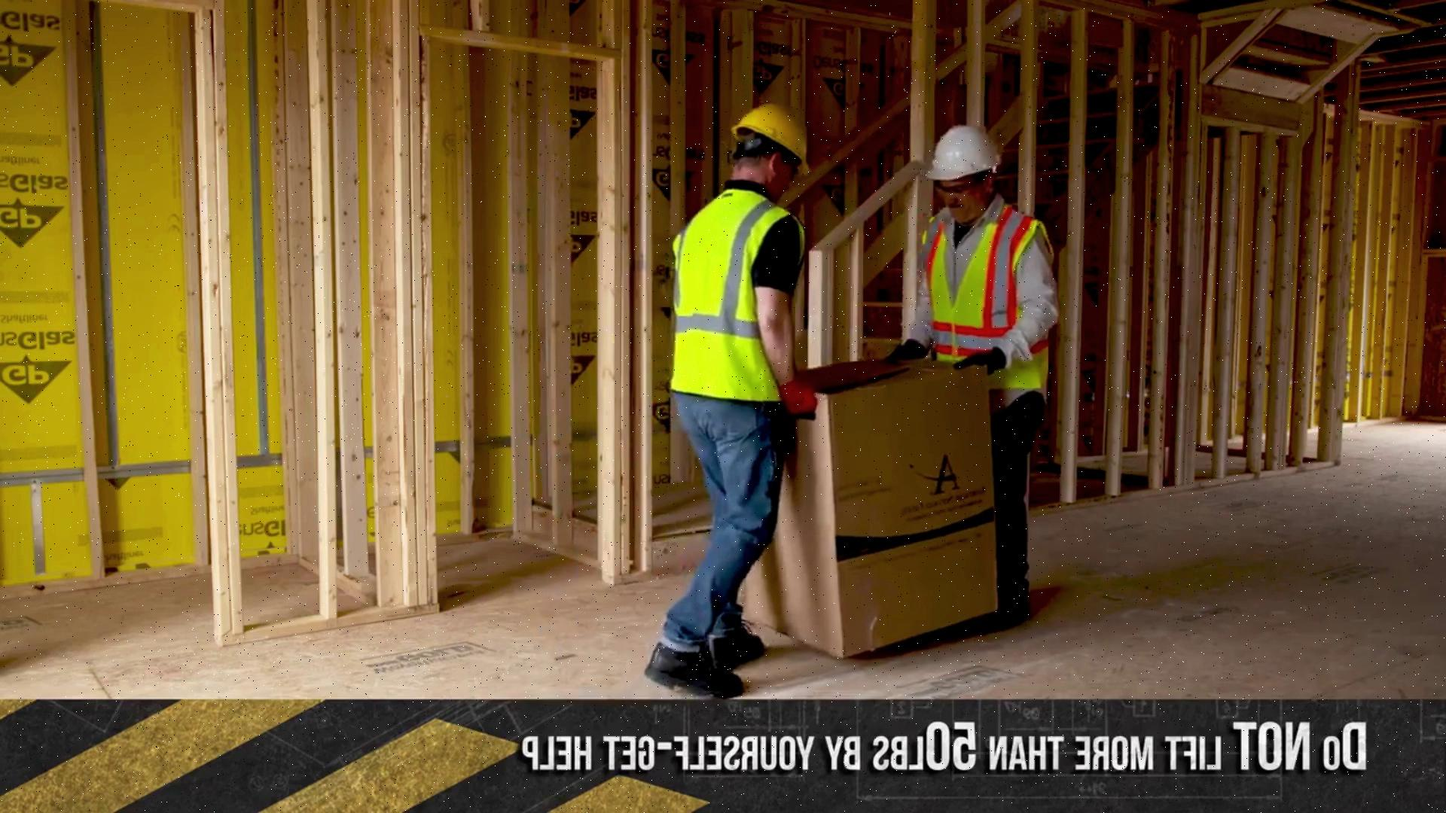Hard_hat: (920, 124, 1005, 186), (733, 102, 810, 167), (993, 575, 1045, 625)
Vest: (661, 168, 811, 419), (912, 211, 1046, 383)
